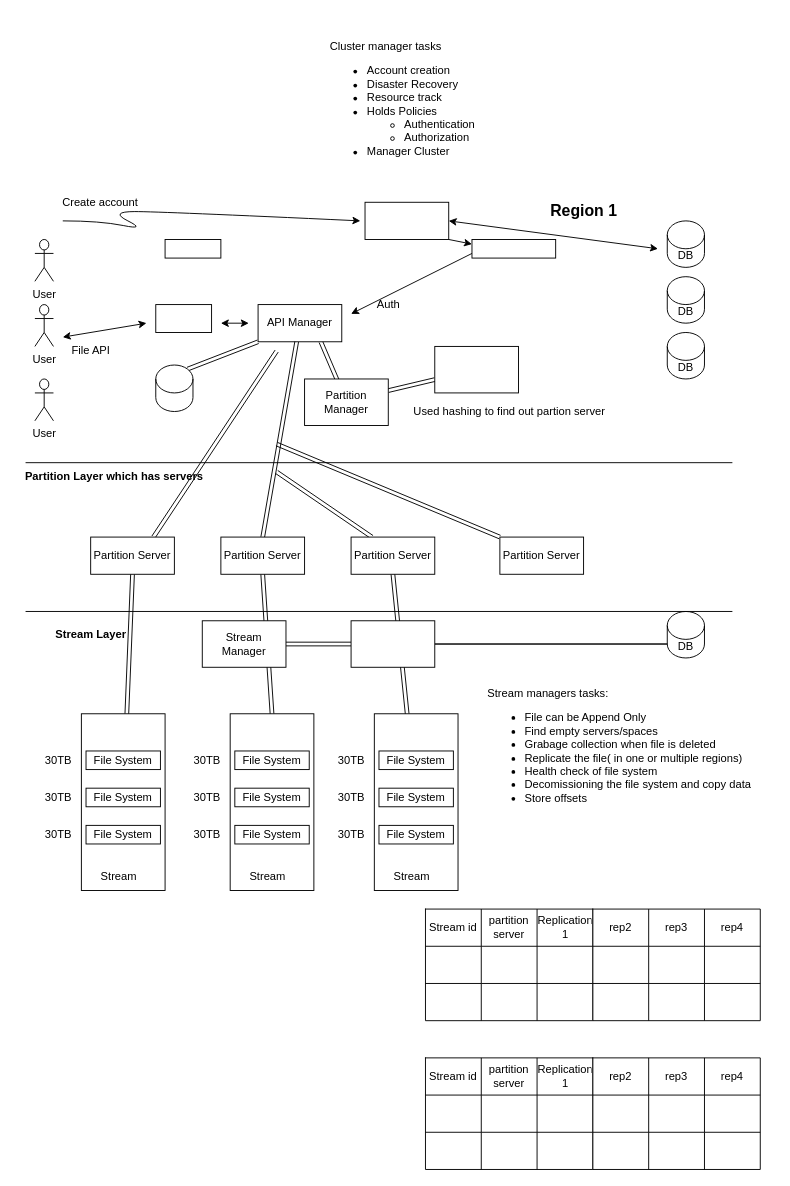
The diagram is 790 pixels wide and 1186 high, and some of its shapes have lost their labels. The shapes that lost their labels are listed below. From the top down, each one's centre as x and y in pixels, then its label:
(406,220): Cluster Manager
(192,248): DNS
(513,248): Auth Service
(183,318): Load Balancer
(174,388): Cache
(476,369): Partition Map Table
(392,643): Zookeeper/ Lock manager
